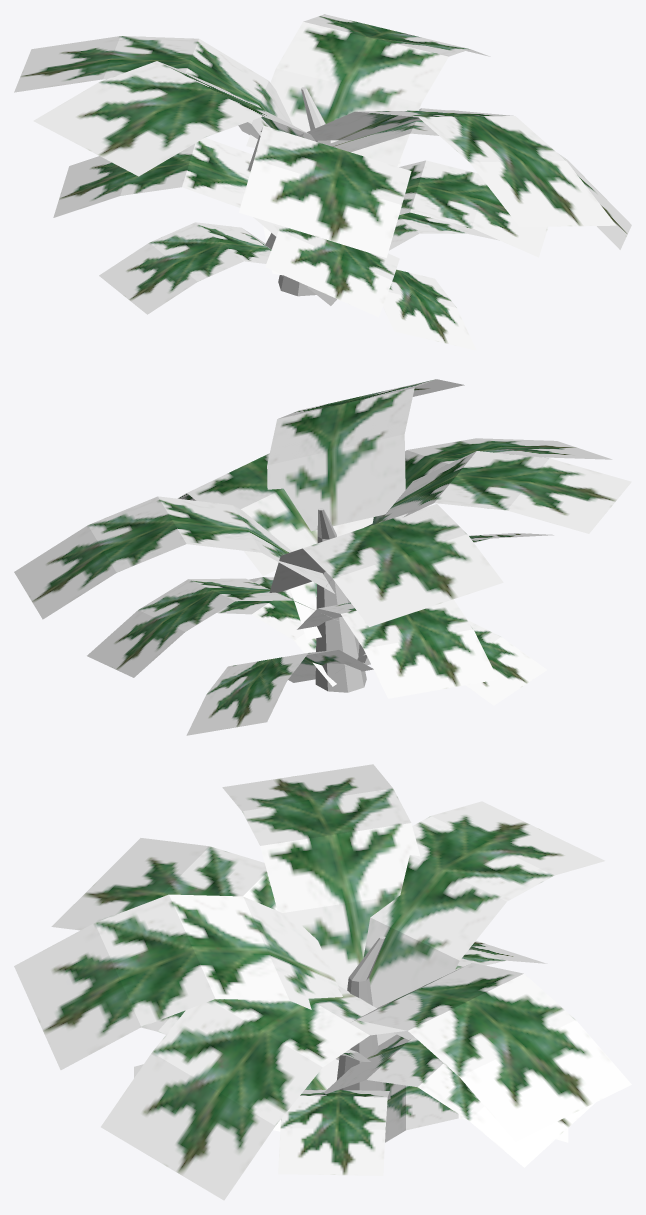
File: Matorral.fbx
The picture shows the model from 3 angles, top to bottom: view 1: azimuth 30°, elevation 25°; view 2: azimuth 150°, elevation 25°; view 3: azimuth 270°, elevation 25°; orthographic projection. The views are drawn at different scales.
Parts seen in each view (by area): view 1: Leafs, Tallo; view 2: Leafs, Tallo; view 3: Leafs, Tallo.
Boxes of the visible parts, x1=… form: Leafs: x1=14, y1=14, x2=631, y2=350; Tallo: x1=278, y1=87, x2=330, y2=296; Leafs: x1=14, y1=379, x2=631, y2=735; Tallo: x1=315, y1=508, x2=366, y2=692; Leafs: x1=14, y1=764, x2=631, y2=1200; Tallo: x1=336, y1=936, x2=385, y2=1090.
Bounding box in the file's own units: 3.25 × 1.49 × 3.26.
1 material, 1 textured.
